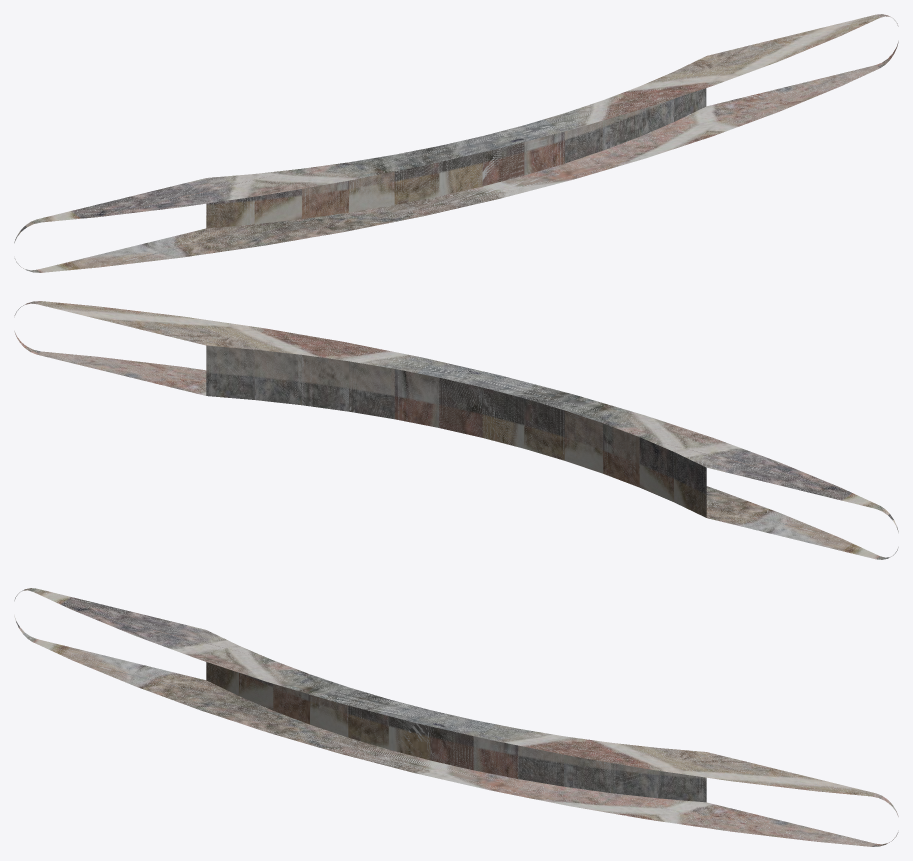
The model's file is original-165.obj.
The picture shows the model from 3 angles, top to bottom: view 1: azimuth 30°, elevation 25°; view 2: azimuth 150°, elevation 25°; view 3: azimuth 330°, elevation 25°; orthographic projection.
Parts seen in each view (by area): view 1: Group57/mesh88/mesh88-geometry/material_0#mesh88-geometry; view 2: Group57/mesh88/mesh88-geometry/material_0#mesh88-geometry; view 3: Group57/mesh88/mesh88-geometry/material_0#mesh88-geometry.
Boxes of the visible parts, x1=… form: Group57/mesh88/mesh88-geometry/material_0#mesh88-geometry: x1=14, y1=14, x2=898, y2=272; Group57/mesh88/mesh88-geometry/material_0#mesh88-geometry: x1=14, y1=301, x2=898, y2=559; Group57/mesh88/mesh88-geometry/material_0#mesh88-geometry: x1=14, y1=588, x2=898, y2=846.
Bounding box in the file's own units: 0.785 × 0.0428 × 0.0661.
